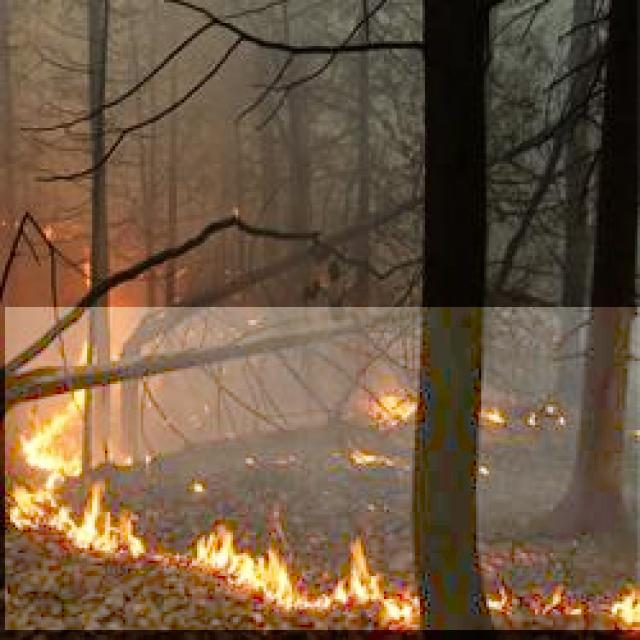Fire: (5, 307, 640, 630)
